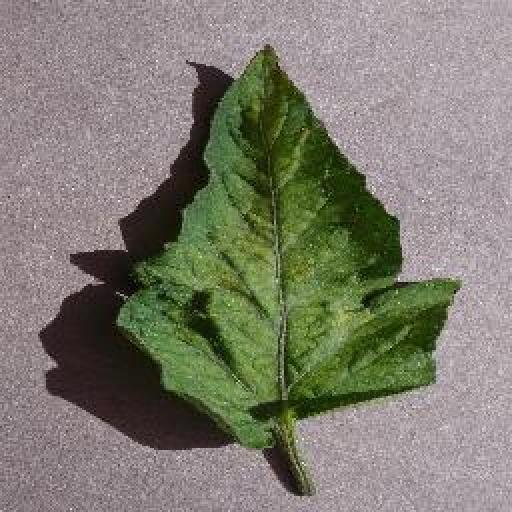disease_tomato: (120, 36, 464, 448)
